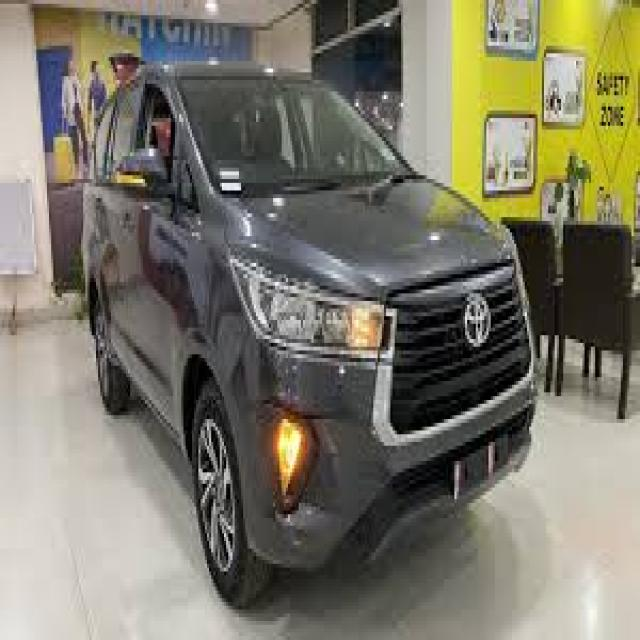light_vehicle: (82, 61, 538, 612)
